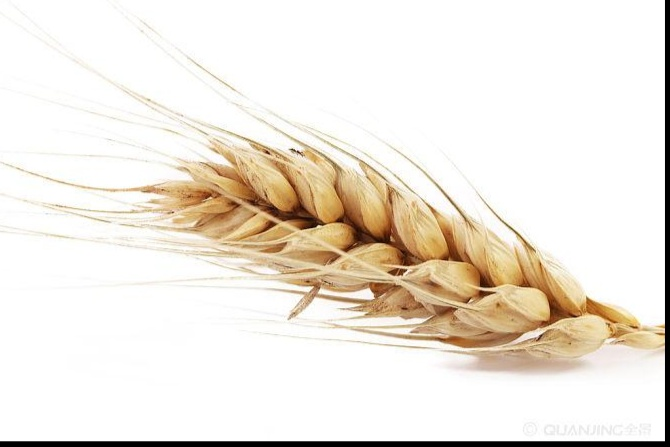wheat: (91, 91, 646, 347)
